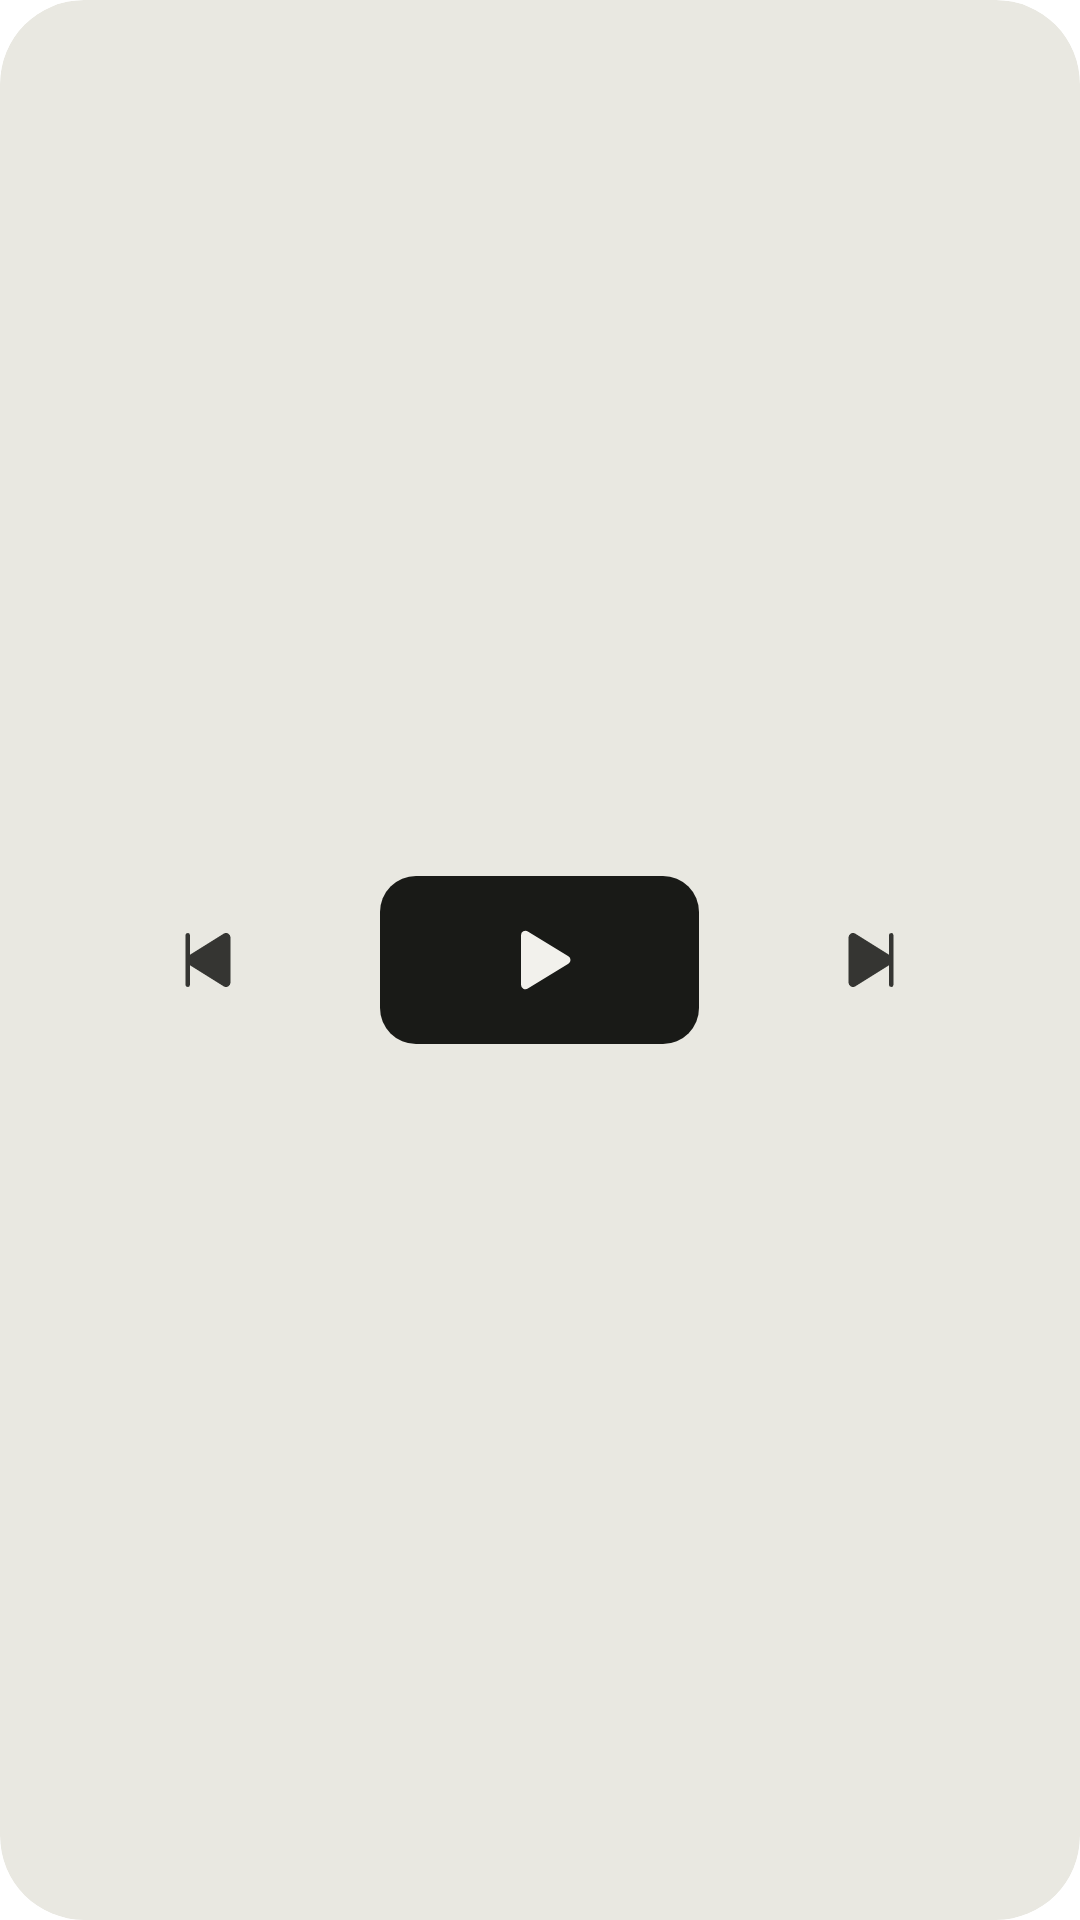

Icons on this 1080px×1920px Android screen, each with its box as (x1, y1, x2, y2):
play: (521, 930, 571, 990)
skip next: (848, 933, 894, 987)
skip previous: (185, 933, 231, 987)
